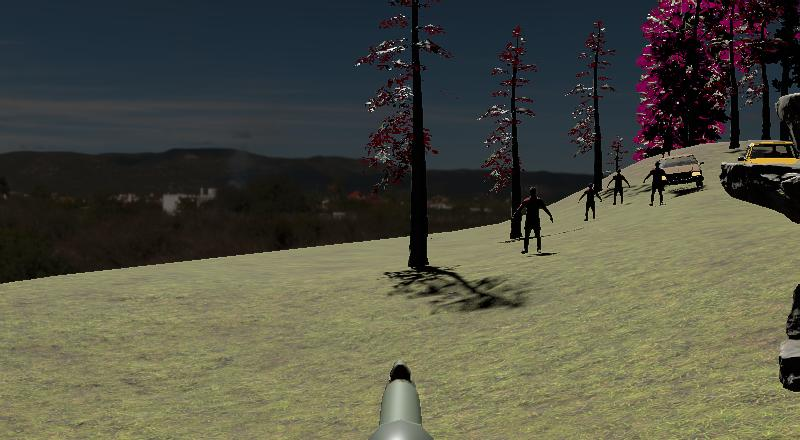Human: (510, 182, 555, 257), (511, 183, 556, 256)
car: (718, 136, 800, 227), (657, 151, 707, 191)
